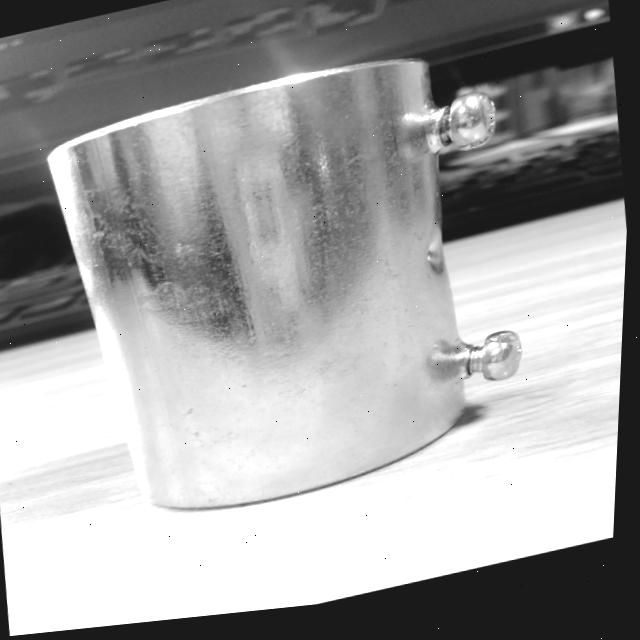Co_Nho: (33, 26, 575, 533)
